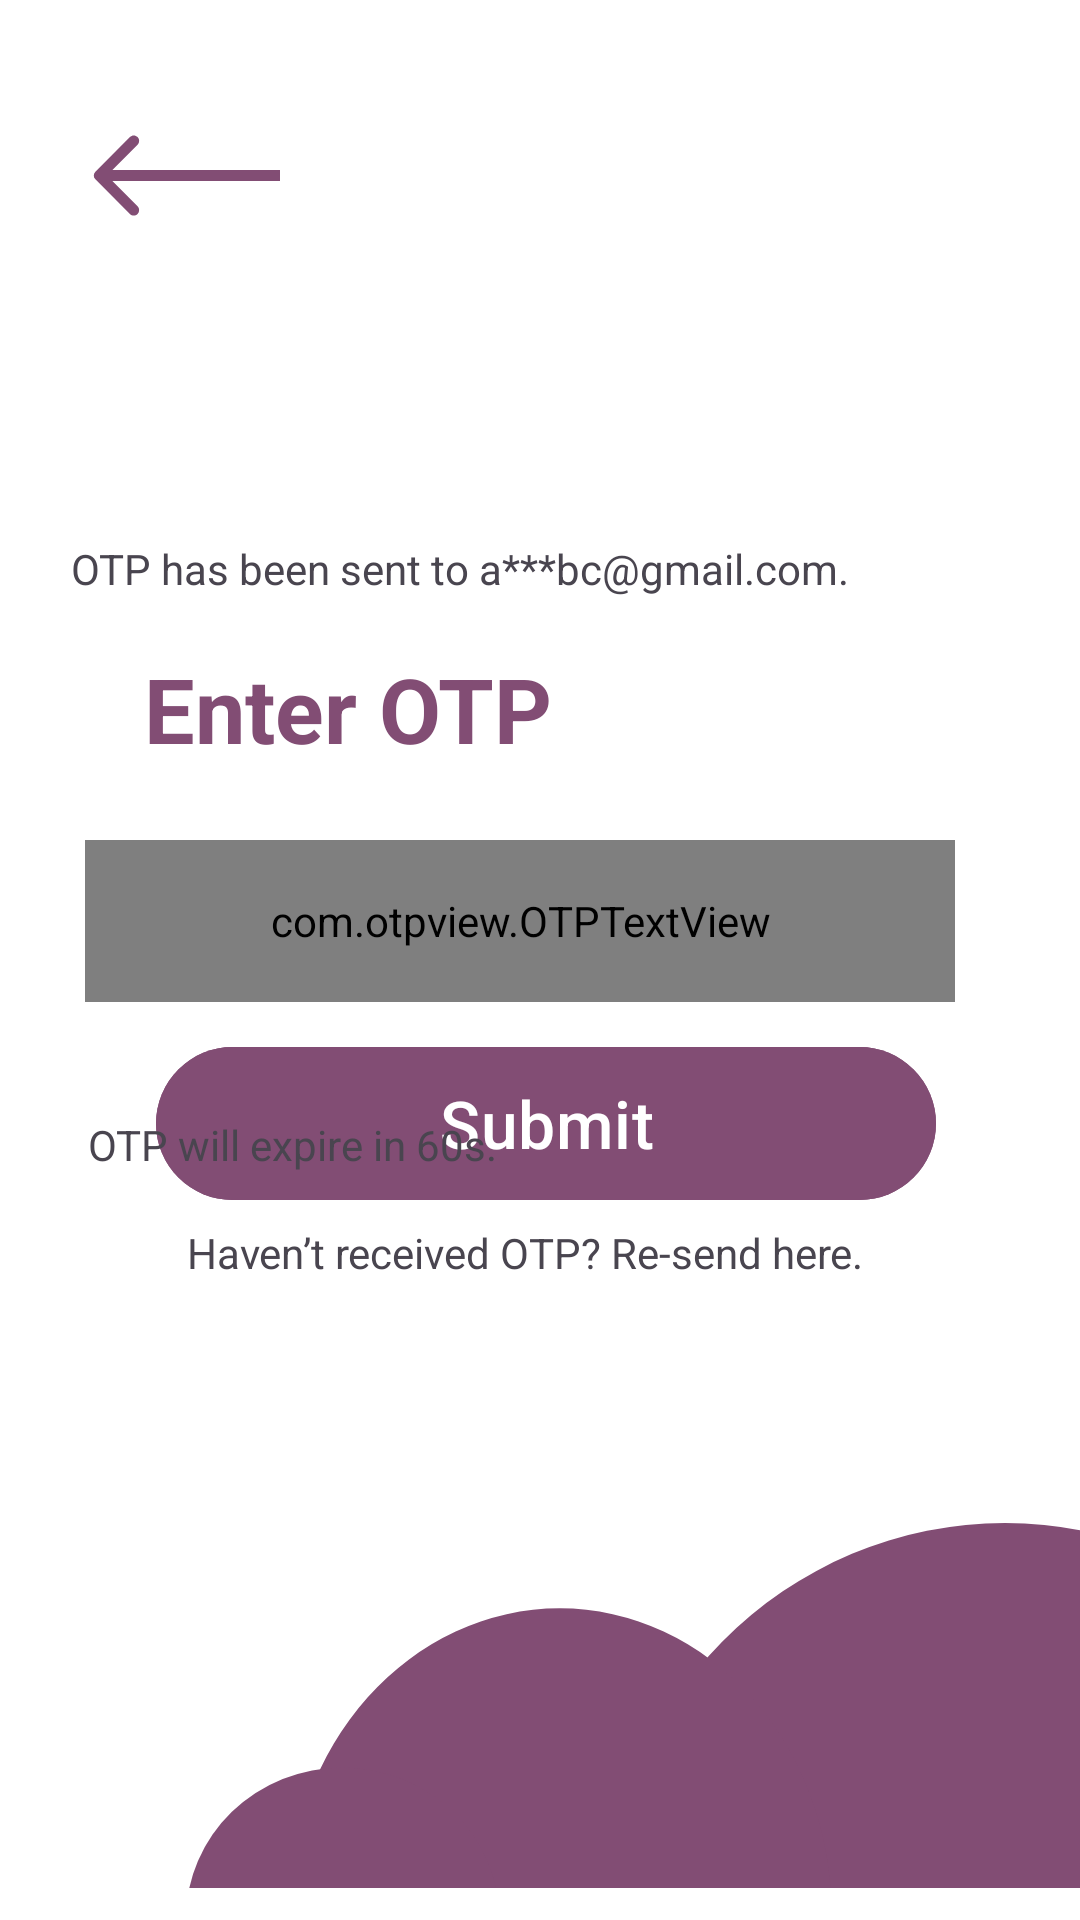

Icons on this 1080 x 1920 Android screen, each with its box as BBox(x1, y1, x2, y2):
back arrrow: BBox(93, 135, 280, 216)
